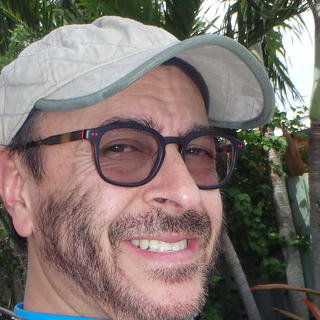eye: (90, 130, 149, 167), (175, 134, 217, 169)
